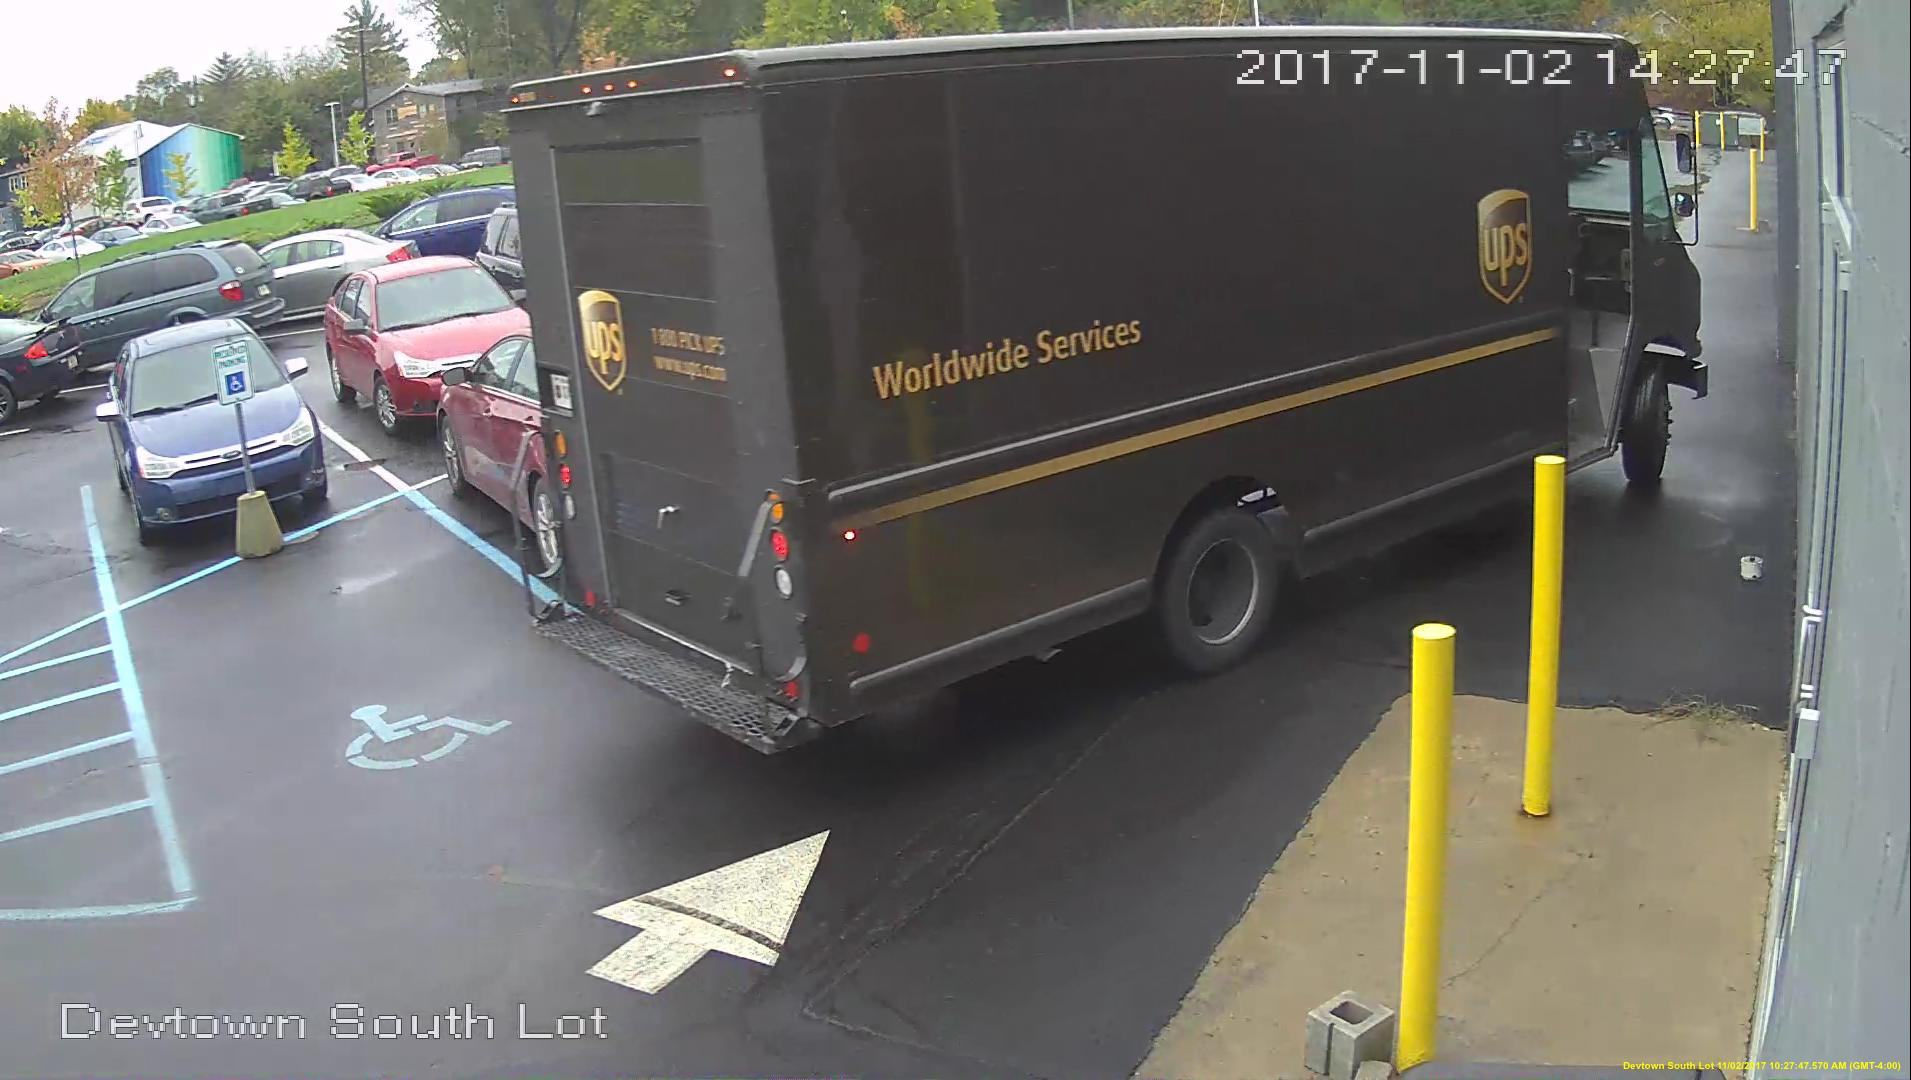ups_truck: (484, 31, 1704, 758)
